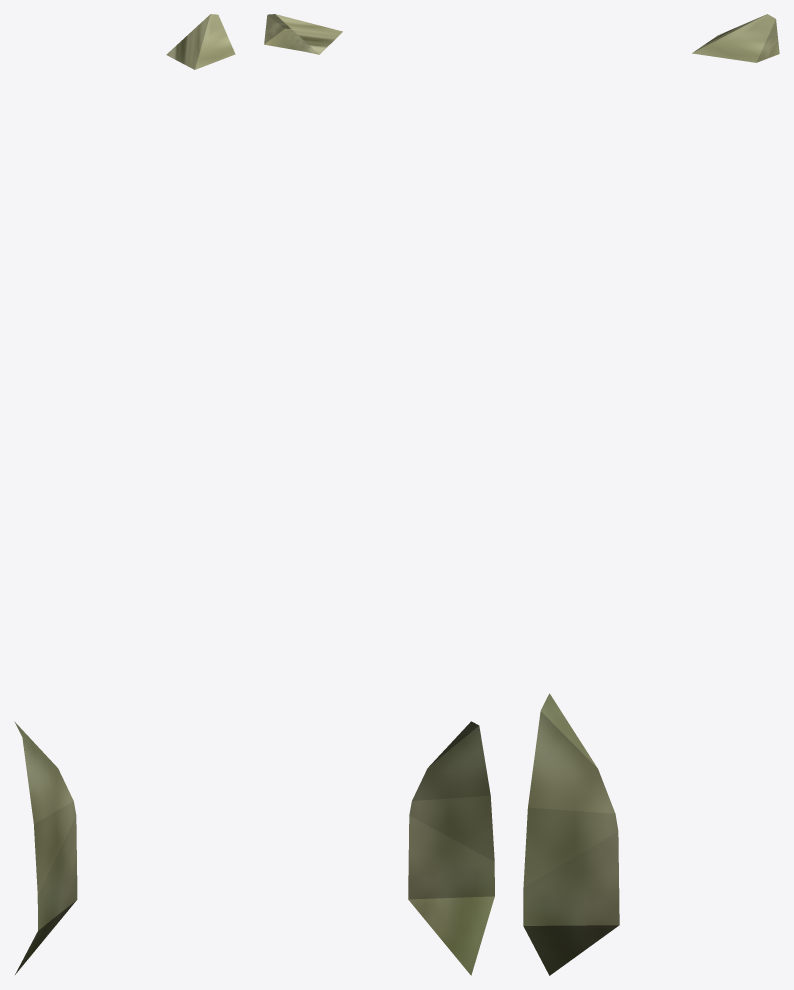
3 renders of one model, left to right at view 1: azimuth 30°, elevation 25°; view 2: azimuth 150°, elevation 25°; view 3: azimuth 330°, elevation 25°, orthographic. The views are drawn at different scales.
Size of the model in its own units: 0.3669 by 1.55 by 0.0805.
1 material, 1 textured.
